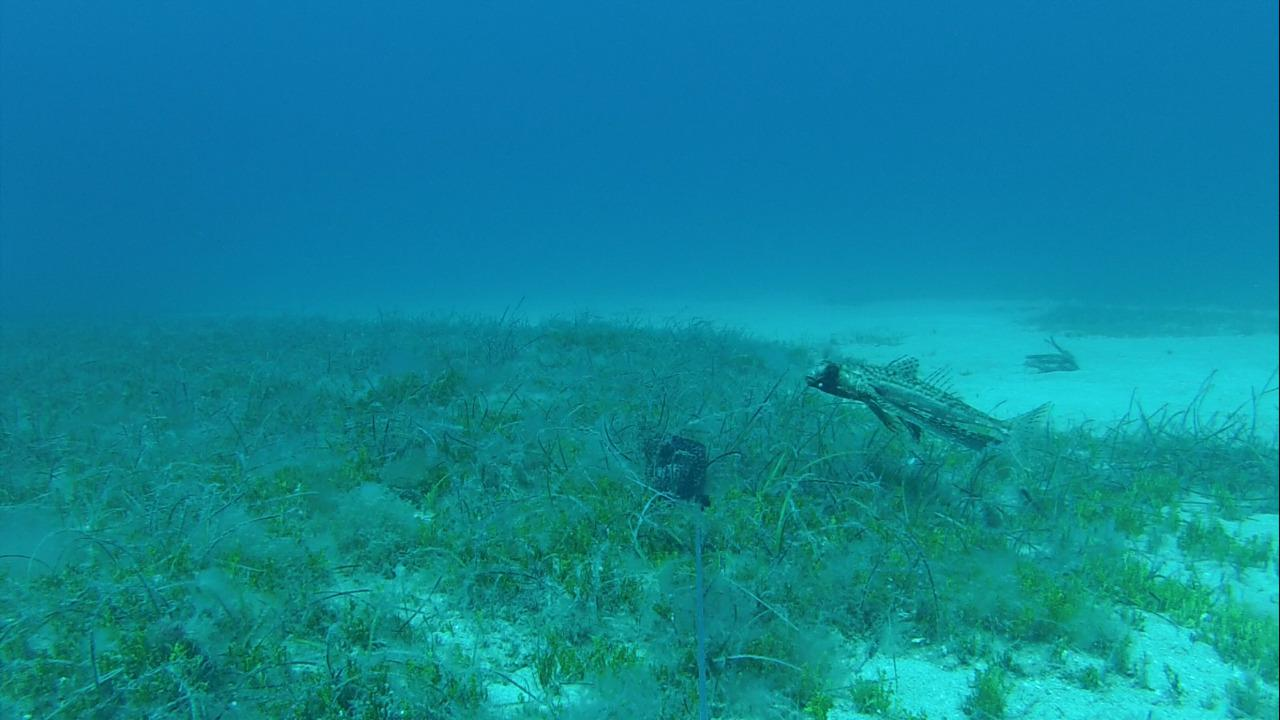dactylopterus: (797, 353, 1053, 478)
